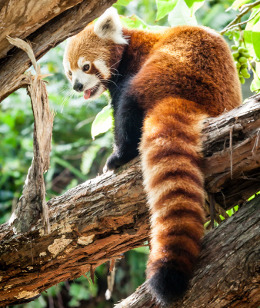red_panda: (64, 24, 239, 284)
